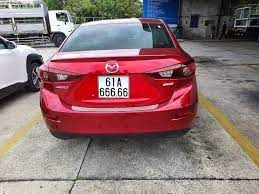Car number plates: (98, 74, 130, 98)
